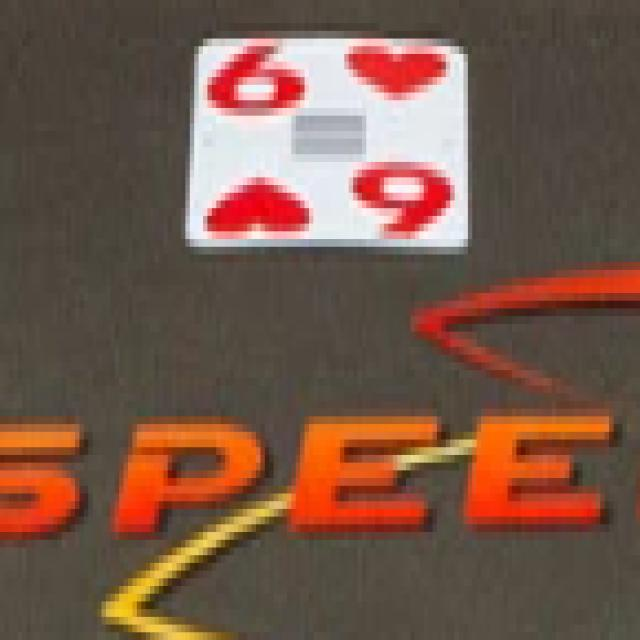Card-6: (188, 39, 467, 254)
